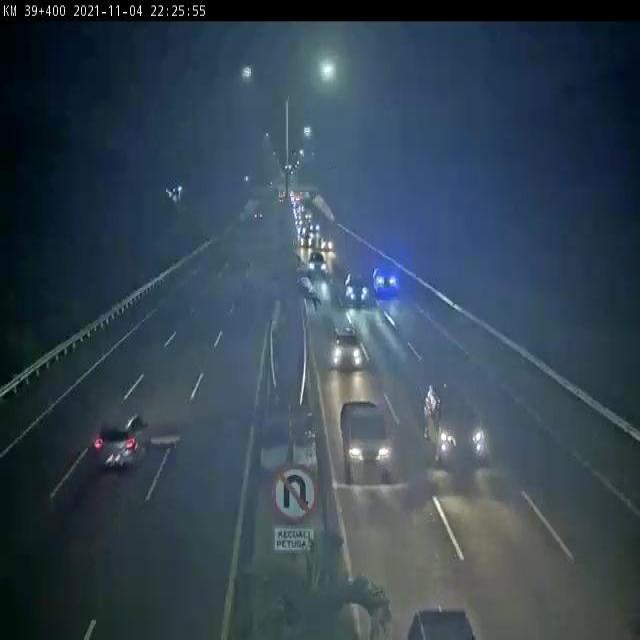car: (418, 379, 496, 473), (89, 408, 151, 477), (326, 322, 376, 374), (343, 264, 372, 313), (374, 257, 403, 300), (307, 247, 330, 284)
truck-s-: (336, 400, 401, 487)
